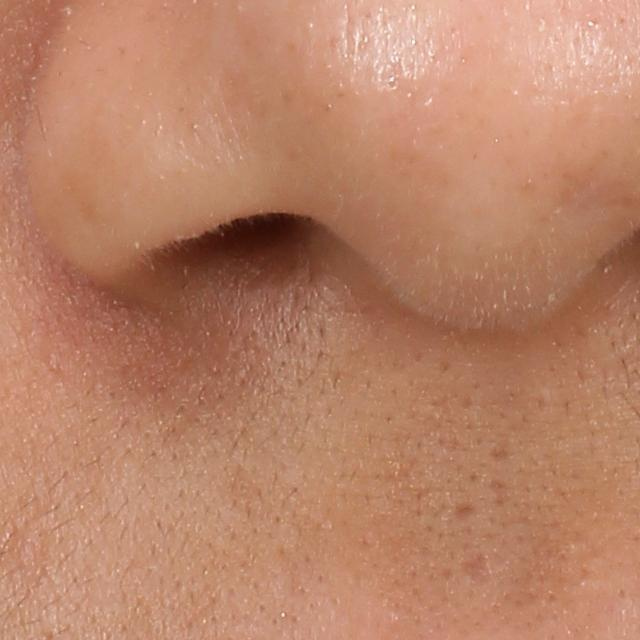atrophic_scar: (457, 557, 491, 585), (486, 435, 515, 465), (486, 472, 510, 507), (446, 500, 476, 519)
